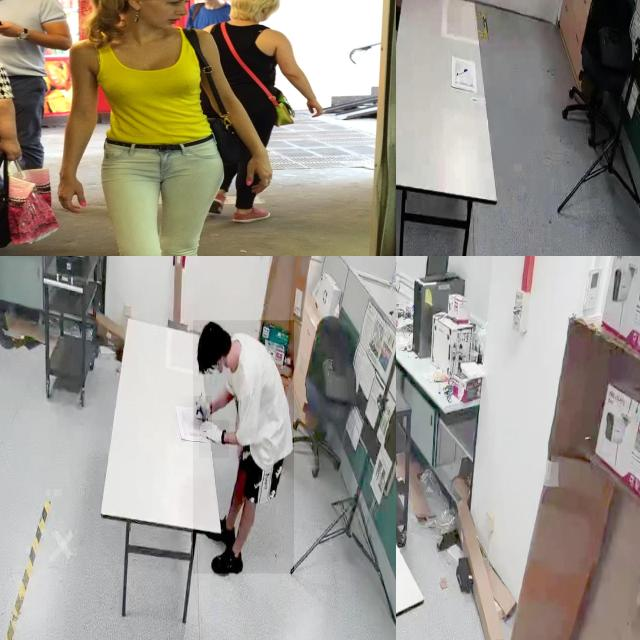hand_glove: (199, 420, 229, 458), (194, 396, 212, 430)
head_nohelmet: (196, 320, 210, 374)
person: (193, 320, 295, 574)
shoes: (212, 544, 244, 580)
